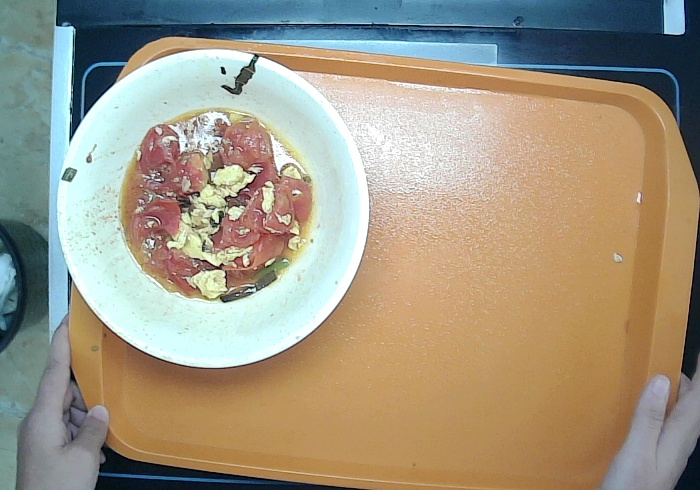ZNLD-Da_Tang_Wan: (54, 44, 372, 369)
